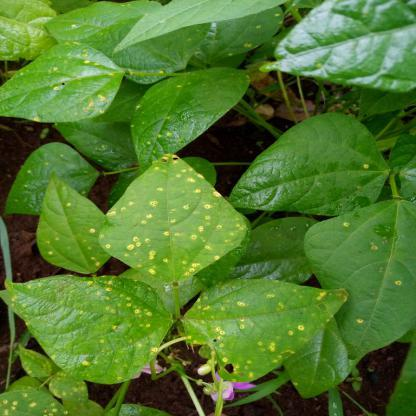Beans_Rust: (10, 276, 163, 388), (311, 204, 416, 361), (226, 114, 388, 215), (190, 282, 340, 381), (113, 154, 243, 268), (132, 67, 254, 156), (0, 42, 120, 122), (8, 138, 102, 213), (36, 177, 110, 271), (205, 10, 284, 50), (0, 388, 74, 416)
